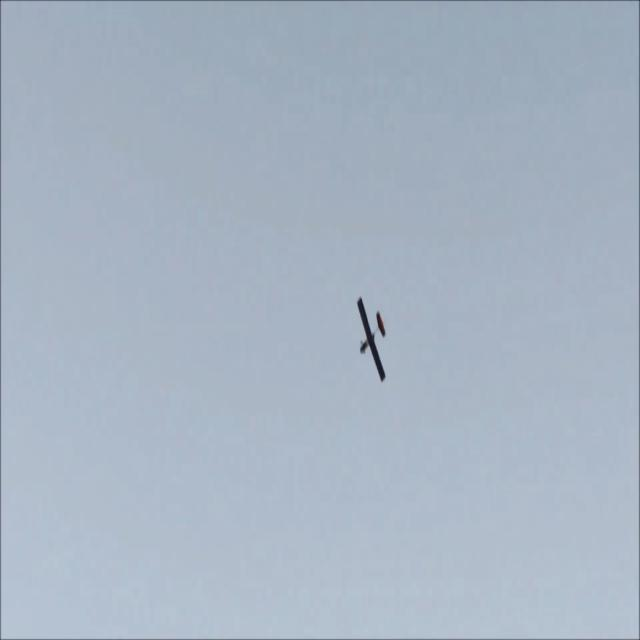iha: (341, 325, 393, 353)
